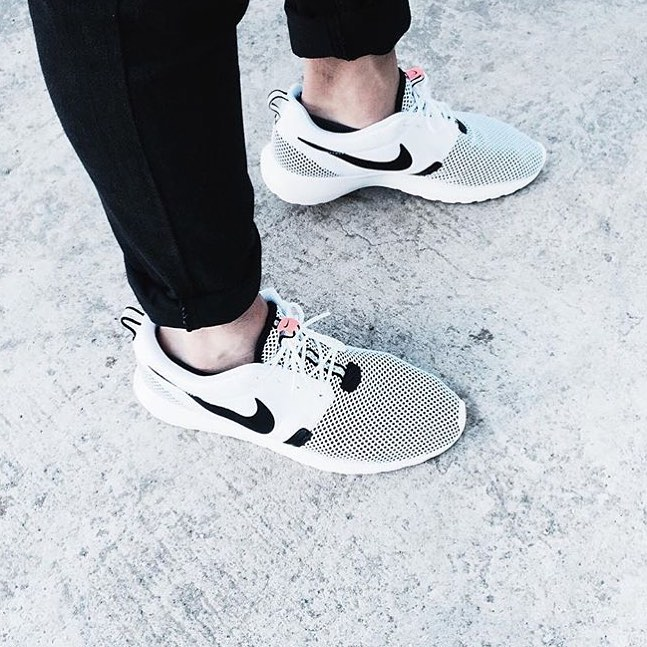sneaker: (105, 273, 485, 498), (245, 30, 566, 233)
